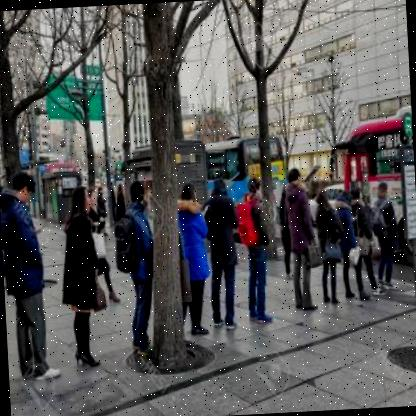person: (53, 179, 114, 373), (0, 169, 51, 382), (112, 178, 164, 380), (278, 164, 326, 316), (232, 170, 278, 326)
tree: (132, 1, 207, 374)
